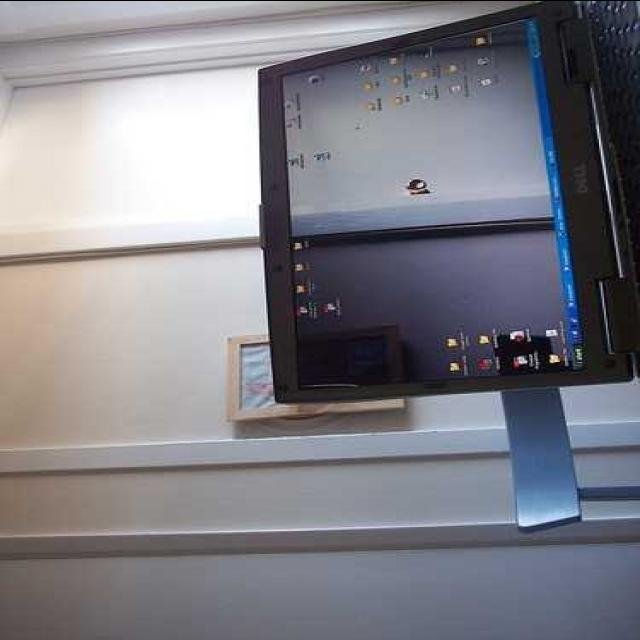laptop: (276, 0, 640, 397)
